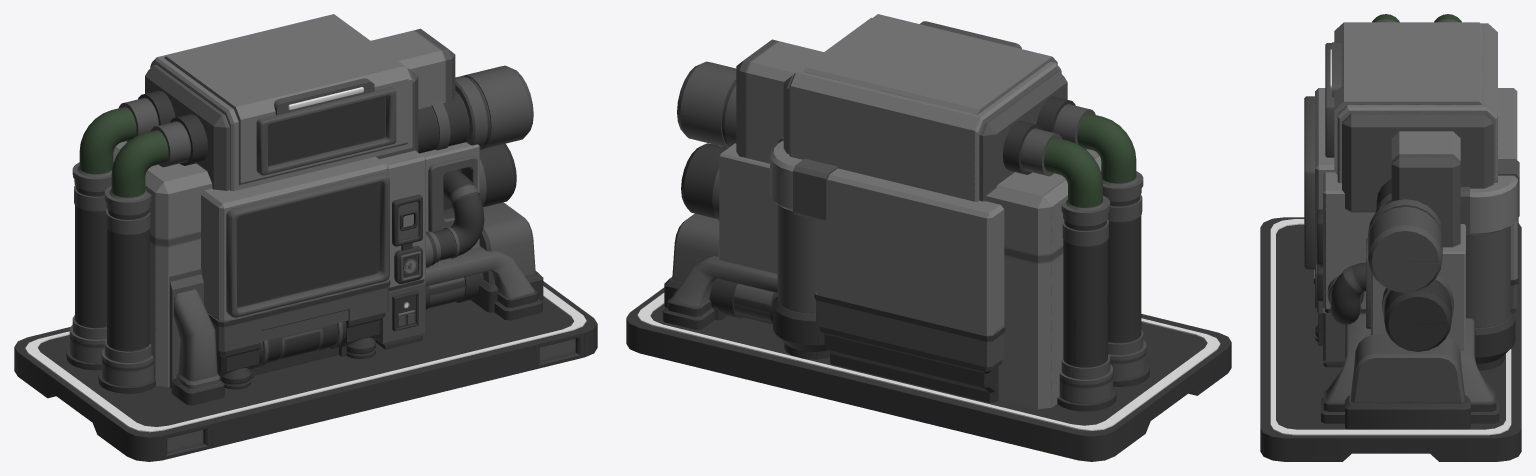
The model's file is generatorV3.fbx.
3 renders of one model, left to right at view 1: azimuth 30°, elevation 25°; view 2: azimuth 150°, elevation 25°; view 3: azimuth 270°, elevation 25°, orthographic. The views are drawn at different scales.
Parts seen in each view (by area): view 1: Generator; view 2: Generator; view 3: Generator.
Boxes of the visible parts, x1=… form: Generator: x1=14, y1=14, x2=597, y2=461; Generator: x1=626, y1=14, x2=1231, y2=461; Generator: x1=1260, y1=14, x2=1521, y2=461.
Size of the model in its own units: 400 by 240 by 200.
